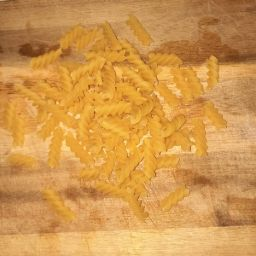Pasta: (11, 15, 227, 256), (159, 43, 223, 98), (33, 185, 81, 238), (145, 110, 191, 165), (62, 22, 123, 59), (40, 169, 73, 236), (4, 98, 37, 157), (124, 13, 158, 53), (161, 184, 197, 221), (29, 39, 69, 72), (14, 150, 49, 178)
